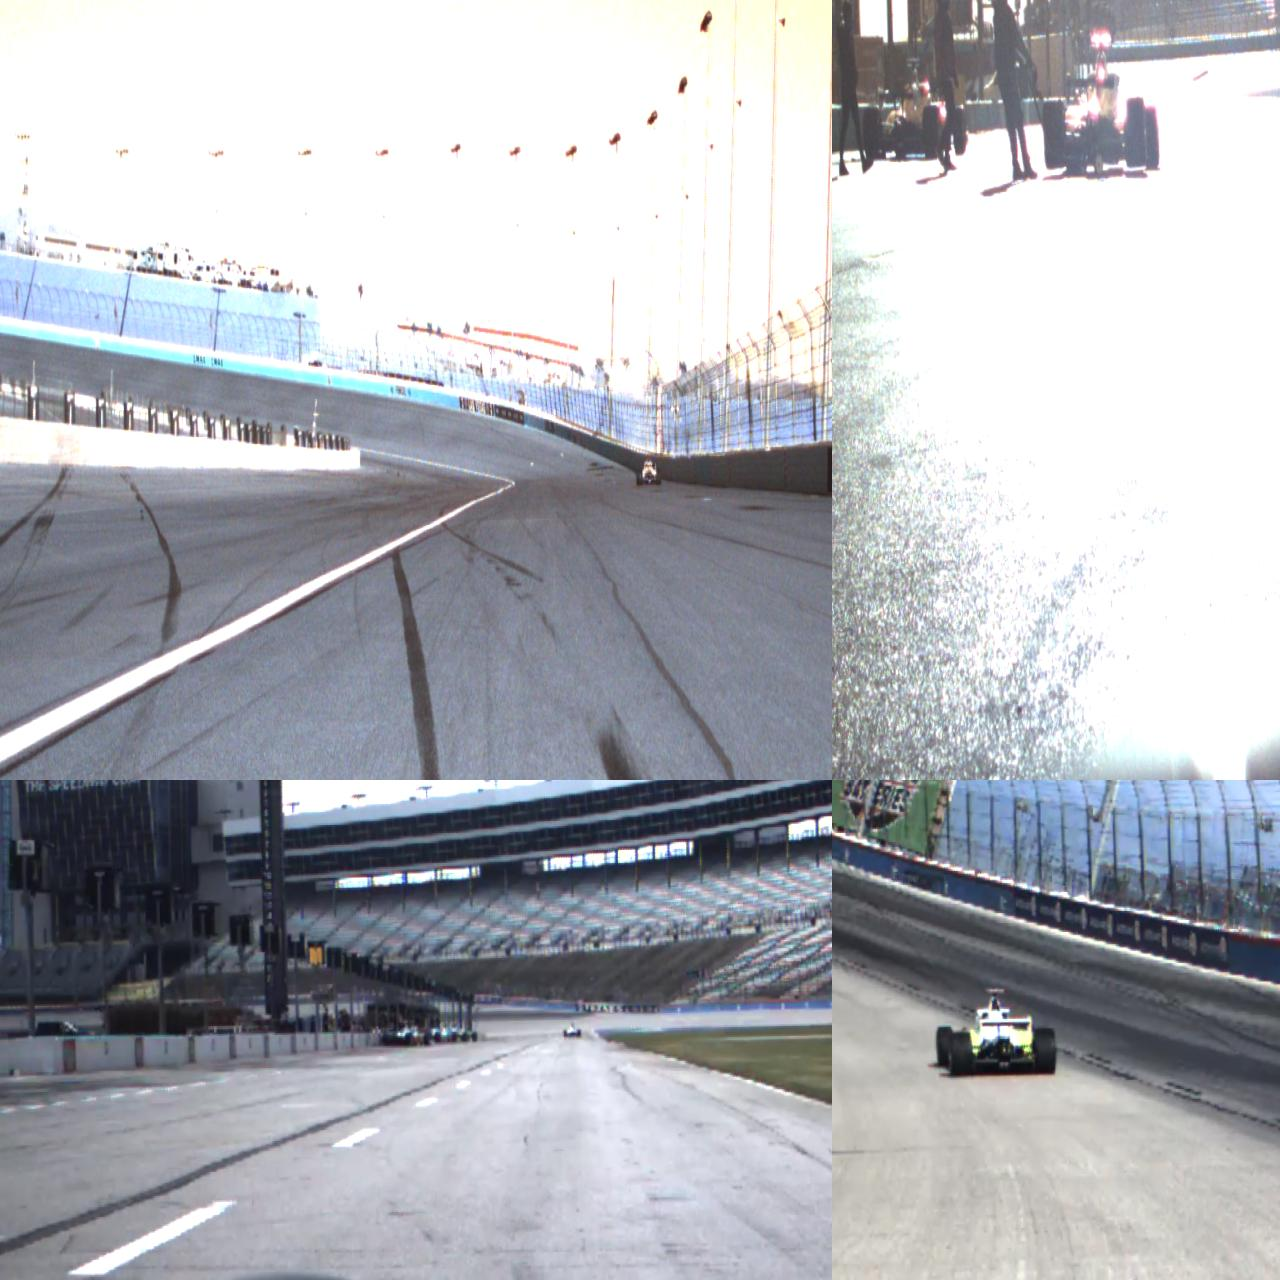AV: (1042, 32, 1160, 172), (934, 986, 1056, 1078), (862, 56, 968, 160), (636, 452, 661, 486), (562, 1023, 582, 1039)
Wheel: (1044, 98, 1068, 168), (1126, 98, 1146, 168), (1141, 106, 1159, 168), (922, 105, 942, 158), (1033, 1028, 1056, 1074), (864, 106, 882, 160), (949, 1034, 971, 1076), (936, 1026, 952, 1066), (954, 106, 966, 157), (656, 468, 662, 485), (636, 469, 642, 486), (577, 1029, 581, 1038), (563, 1030, 567, 1039)
